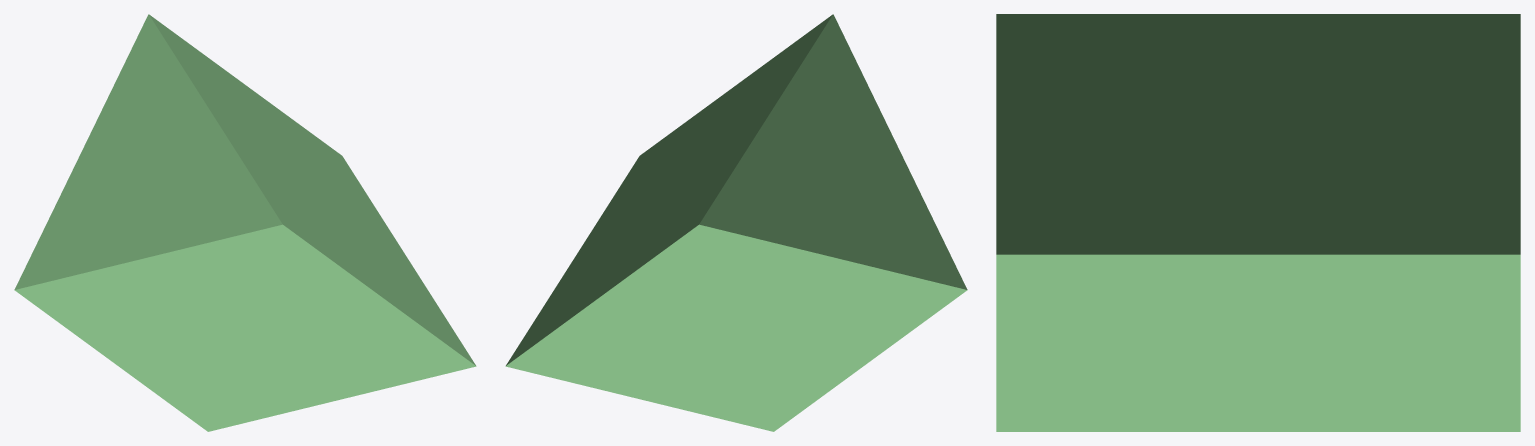
Rendered from prisma.glb.
3 renders of one model, left to right at view 1: azimuth 30°, elevation 25°; view 2: azimuth 150°, elevation 25°; view 3: azimuth 270°, elevation 25°, orthographic. The views are drawn at different scales.
Parts seen in each view (by area): view 1: world; view 2: world; view 3: world.
Part boxes in pixels (x1,y1,x2,y2): world: [14, 14, 476, 431]; world: [505, 14, 967, 431]; world: [996, 14, 1520, 431].
Bounding box in the file's own units: 0.8 × 0.6928 × 1.
